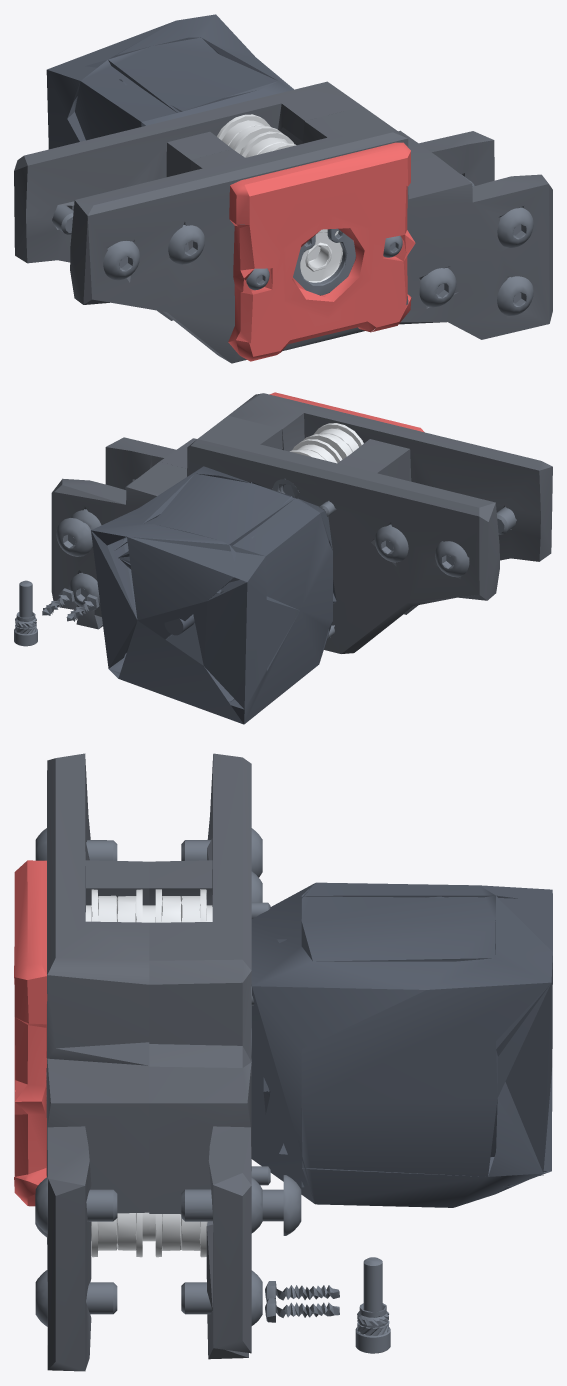
The picture shows the model from 3 angles, top to bottom: view 1: azimuth 30°, elevation 25°; view 2: azimuth 150°, elevation 25°; view 3: azimuth 270°, elevation 25°; orthographic projection. The views are drawn at different scales.
Visible parts, largest first — view 1: a_stepper_upper__1_, [a]_cover_bearing_x2, a_stepper_lower, nema17_motor_17hs19-2004s, circlip_x2__1_, f695_zz, m5x30_bhcs_13, m5x10_bhcs__4__9, m5x10_bhcs__4__8, m5x10_bhcs__4_, m5x10_bhcs__4__5, f695_zz_mirror__42 (+3 smaller); view 2: nema17_motor_17hs19-2004s, a_stepper_lower, a_stepper_upper__1_, m5x16_bhcs__4_, m5x10_bhcs__4__6, m5x10_bhcs__4__7, m3x12_shcs__2_, m5x10_bhcs__4__10, [a]_cover_bearing_x2, f695_zz_mirror__45, f695_zz_mirror__41, f695_zz_mirror__46 (+1 smaller); view 3: nema17_motor_17hs19-2004s, a_stepper_upper__1_, a_stepper_lower, [a]_cover_bearing_x2, m5x16_bhcs__4_, m3x12_shcs__2_, m5x10_bhcs__4__9, m5x10_bhcs__4__8, m5x10_bhcs__4__10, m5x10_bhcs__4__11, m5x10_bhcs__4__6, f695_zz_mirror__37 (+11 smaller).
Boxes of the visible parts, x1=… form: a_stepper_upper__1_: x1=70, y1=106, x2=552, y2=363; [a]_cover_bearing_x2: x1=228, y1=142, x2=415, y2=361; a_stepper_lower: x1=14, y1=81, x2=494, y2=320; nema17_motor_17hs19-2004s: x1=46, y1=14, x2=293, y2=149; circlip_x2__1_: x1=293, y1=228, x2=355, y2=295; f695_zz: x1=300, y1=229, x2=342, y2=282; m5x30_bhcs_13: x1=419, y1=267, x2=456, y2=307; m5x10_bhcs__4__9: x1=497, y1=207, x2=533, y2=247; m5x10_bhcs__4__8: x1=497, y1=276, x2=533, y2=315; m5x10_bhcs__4_: x1=103, y1=241, x2=139, y2=280; m5x10_bhcs__4__5: x1=168, y1=225, x2=204, y2=264; f695_zz_mirror__42: x1=217, y1=114, x2=270, y2=145; nema17_motor_17hs19-2004s: x1=91, y1=466, x2=336, y2=724; a_stepper_lower: x1=51, y1=415, x2=499, y2=653; a_stepper_upper__1_: x1=105, y1=393, x2=552, y2=614; m5x16_bhcs__4_: x1=56, y1=518, x2=92, y2=556; m5x10_bhcs__4__6: x1=435, y1=541, x2=469, y2=577; m5x10_bhcs__4__7: x1=374, y1=524, x2=408, y2=562; m3x12_shcs__2_: x1=14, y1=580, x2=37, y2=646; m5x10_bhcs__4__10: x1=69, y1=572, x2=100, y2=610; [a]_cover_bearing_x2: x1=269, y1=392, x2=424, y2=432; f695_zz_mirror__45: x1=313, y1=423, x2=363, y2=452; f695_zz_mirror__41: x1=292, y1=439, x2=342, y2=463; f695_zz_mirror__46: x1=302, y1=433, x2=352, y2=459; nema17_motor_17hs19-2004s: x1=251, y1=882, x2=552, y2=1207; a_stepper_upper__1_: x1=46, y1=753, x2=149, y2=1371; a_stepper_lower: x1=149, y1=753, x2=251, y2=1359; [a]_cover_bearing_x2: x1=14, y1=860, x2=47, y2=1206; m5x16_bhcs__4_: x1=181, y1=1175, x2=301, y2=1235; m3x12_shcs__2_: x1=355, y1=1257, x2=390, y2=1353; m5x10_bhcs__4__9: x1=35, y1=1177, x2=117, y2=1233; m5x10_bhcs__4__8: x1=35, y1=1270, x2=117, y2=1326; m5x10_bhcs__4__10: x1=181, y1=1270, x2=262, y2=1325; m5x10_bhcs__4__11: x1=181, y1=1178, x2=262, y2=1233; m5x10_bhcs__4__6: x1=181, y1=828, x2=262, y2=877; f695_zz_mirror__37: x1=155, y1=1214, x2=181, y2=1257.
Size of the model in its own units: 0.116 by 0.054 by 0.0842.
